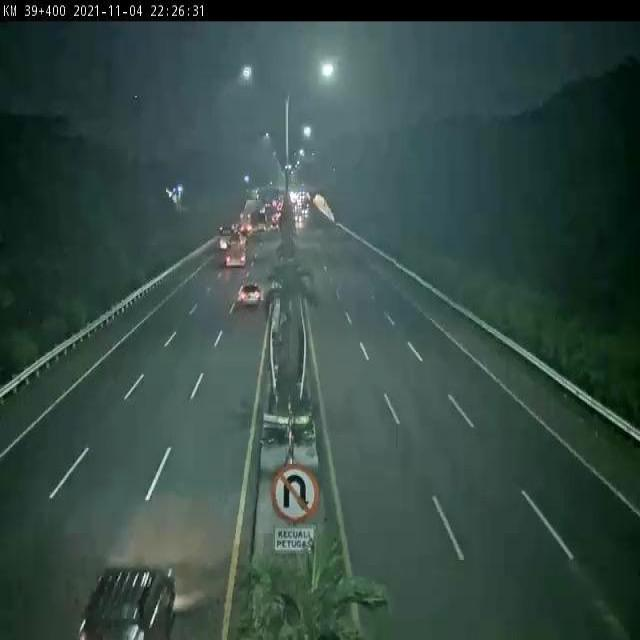bus-l-: (217, 222, 236, 258)
car: (73, 517, 202, 640), (233, 268, 270, 319)
truck-xl-: (225, 228, 250, 271)
